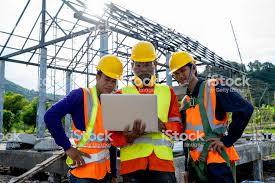helmet: (97, 54, 124, 79), (130, 41, 157, 61), (168, 52, 194, 72)
vest: (185, 81, 236, 161), (120, 86, 174, 160), (66, 90, 110, 174)
